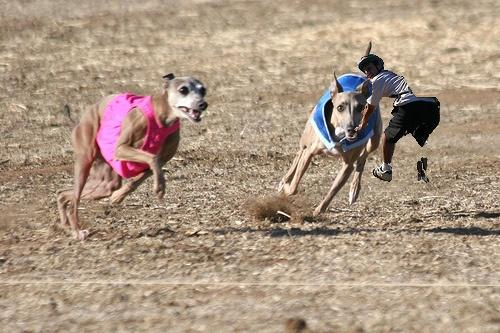tampered: (355, 55, 440, 183)
